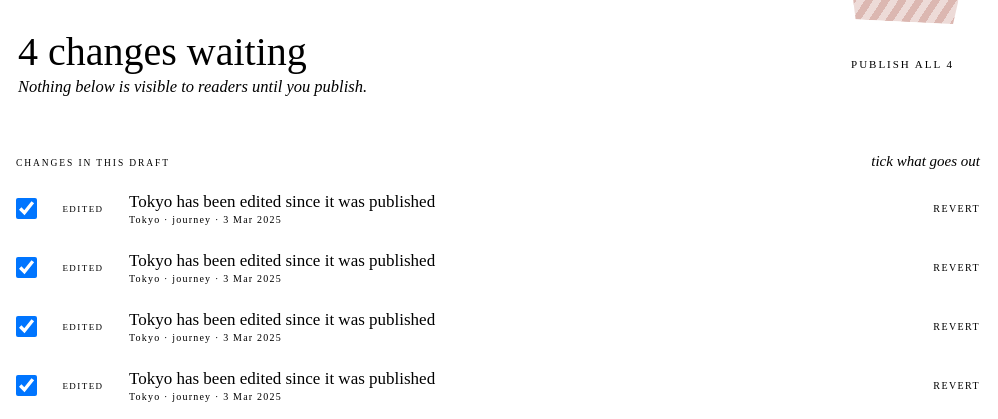
PublishSelection › goes back to "all" when the box is ticked again
Click the 3rd checkbox.
click(26, 326)  # box [16,316,37,337]
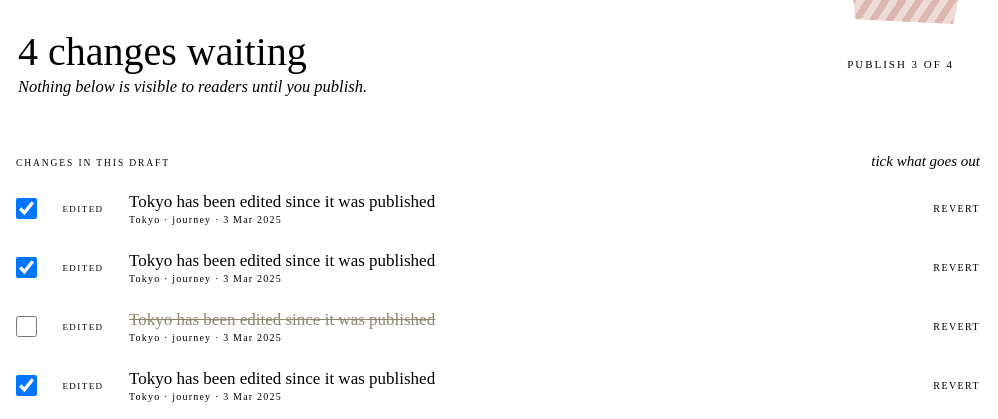
Click the 3rd checkbox.
click(26, 326)  # box [16,316,37,337]
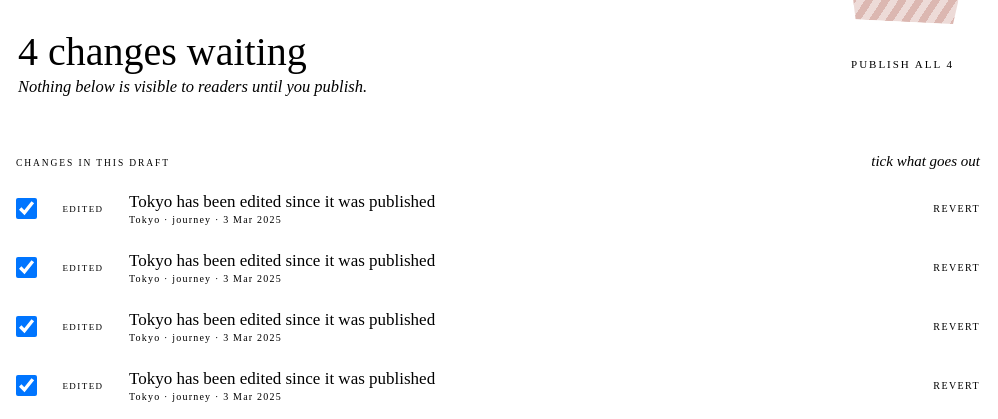
Result: the button "Publish all 4" is shown at [827,46,978,80]
